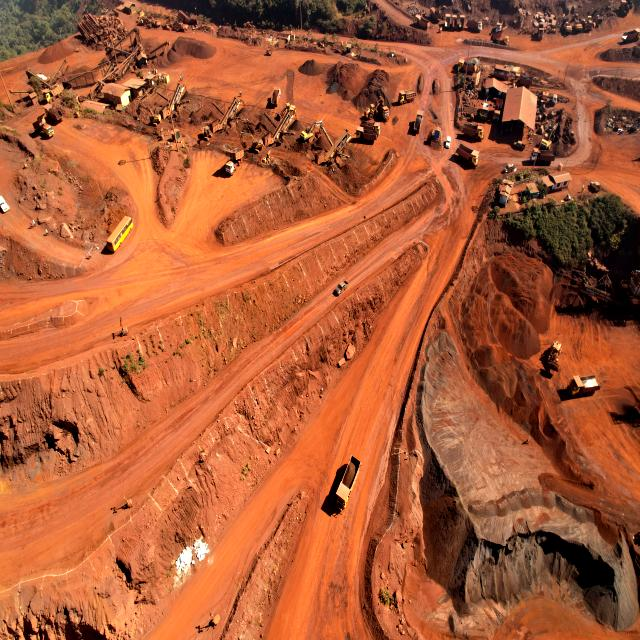Blast rig: (595, 6, 603, 26)
Dumper truck: (332, 457, 358, 513), (568, 375, 599, 398), (457, 144, 479, 165), (461, 124, 483, 140), (37, 120, 55, 138), (43, 86, 62, 103), (44, 106, 62, 123), (513, 72, 531, 88), (362, 120, 380, 136), (533, 149, 552, 164), (622, 28, 639, 44), (356, 128, 374, 143), (412, 16, 430, 30), (222, 161, 239, 175), (399, 89, 414, 104), (270, 85, 280, 106), (223, 160, 237, 175), (493, 100, 502, 122), (616, 0, 630, 14), (618, 0, 632, 13), (494, 34, 509, 46), (468, 20, 482, 32), (0, 193, 8, 214), (412, 116, 422, 131), (416, 111, 424, 129), (495, 20, 503, 35), (381, 106, 389, 120), (538, 25, 544, 39), (452, 14, 457, 28), (445, 14, 450, 28), (459, 15, 464, 28)
Excavator: (224, 147, 242, 172), (200, 124, 214, 140), (252, 138, 264, 152)
car: (334, 281, 347, 295), (444, 136, 452, 148)
person: (240, 91, 242, 97), (182, 75, 184, 80), (180, 76, 182, 81), (239, 91, 241, 96)
